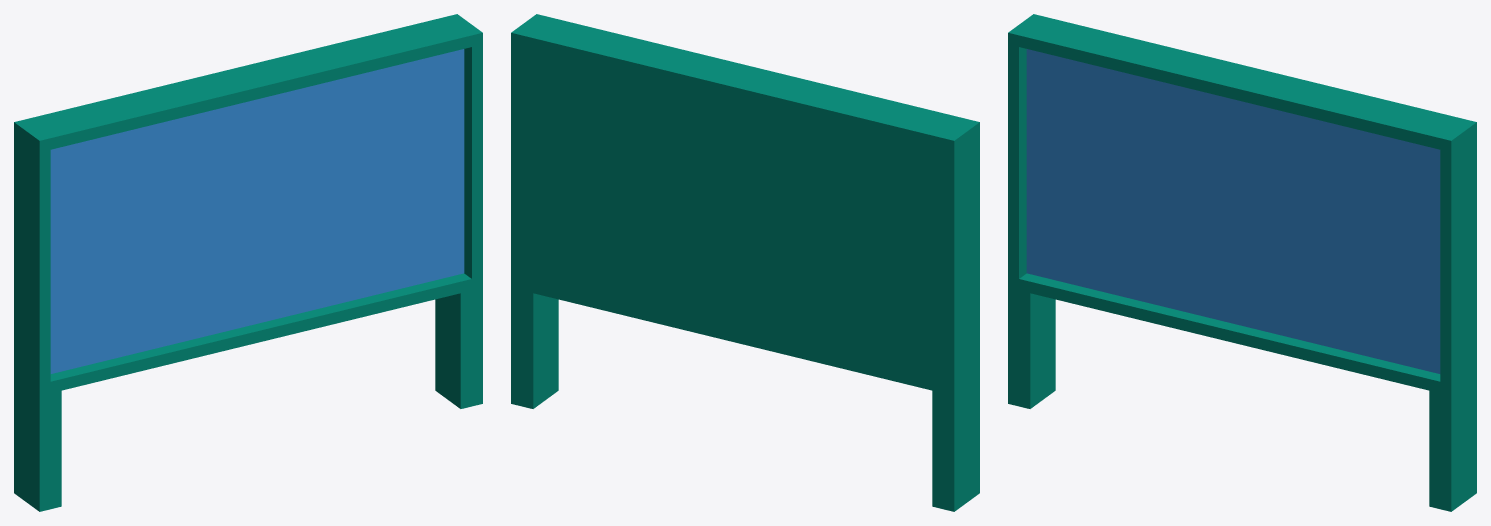
File: galleryboard.glb
3 views of the same model, side by side, from view 1: azimuth 30°, elevation 25°; view 2: azimuth 150°, elevation 25°; view 3: azimuth 330°, elevation 25° (orthographic).
Parts seen in each view (by area): view 1: galleryboard; view 2: galleryboard; view 3: galleryboard.
Boxes of the visible parts, x1=… form: galleryboard: x1=14, y1=14, x2=482, y2=511; galleryboard: x1=511, y1=14, x2=979, y2=511; galleryboard: x1=1008, y1=14, x2=1476, y2=511.
Size of the model in its own units: 10 by 8 by 1.
